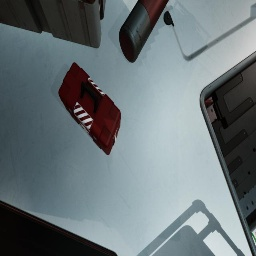0: (248, 220, 256, 247)
FirstAidBox ,: (58, 62, 121, 155)
NitrogenTank ,: (119, 0, 169, 63)
